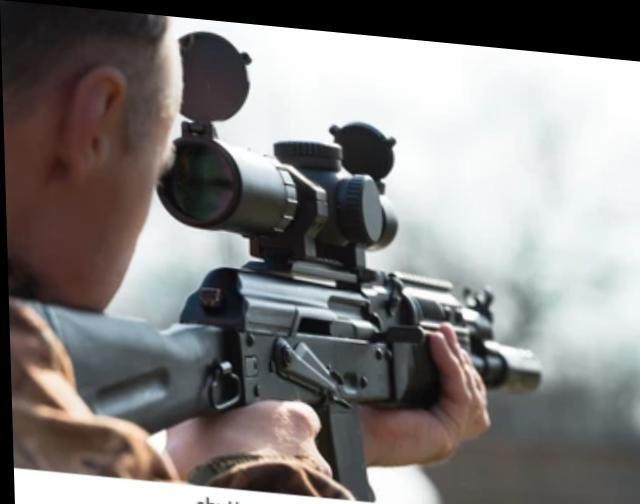other: (0, 0, 211, 485)
